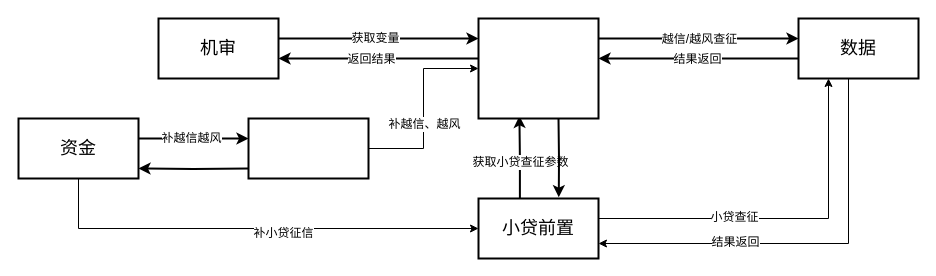
The diagram is 936 pixels wide and 276 high, and some of its shapes have lost their labels. Here are the shapes that lost their labels. From the top down, the box of each, then its label:
(477, 17, 599, 119): rpc/uid_rpc
(247, 117, 369, 179): 补查征服务 越信/越风/众安
